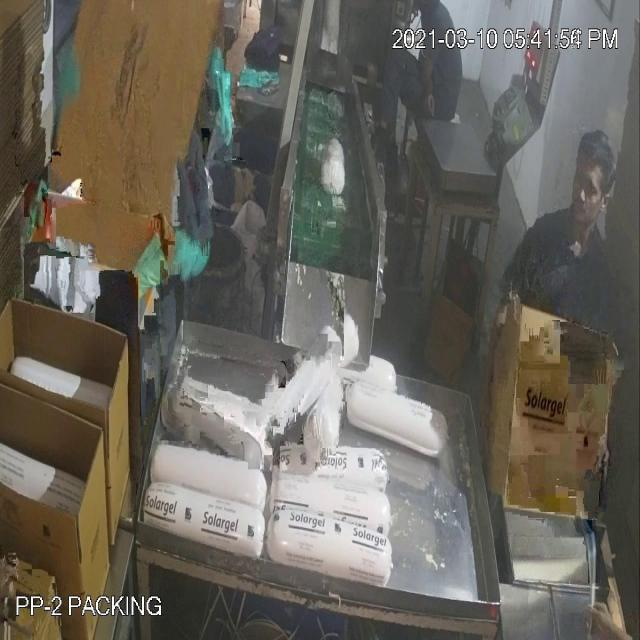No_Gloves: (24, 87, 492, 378)
